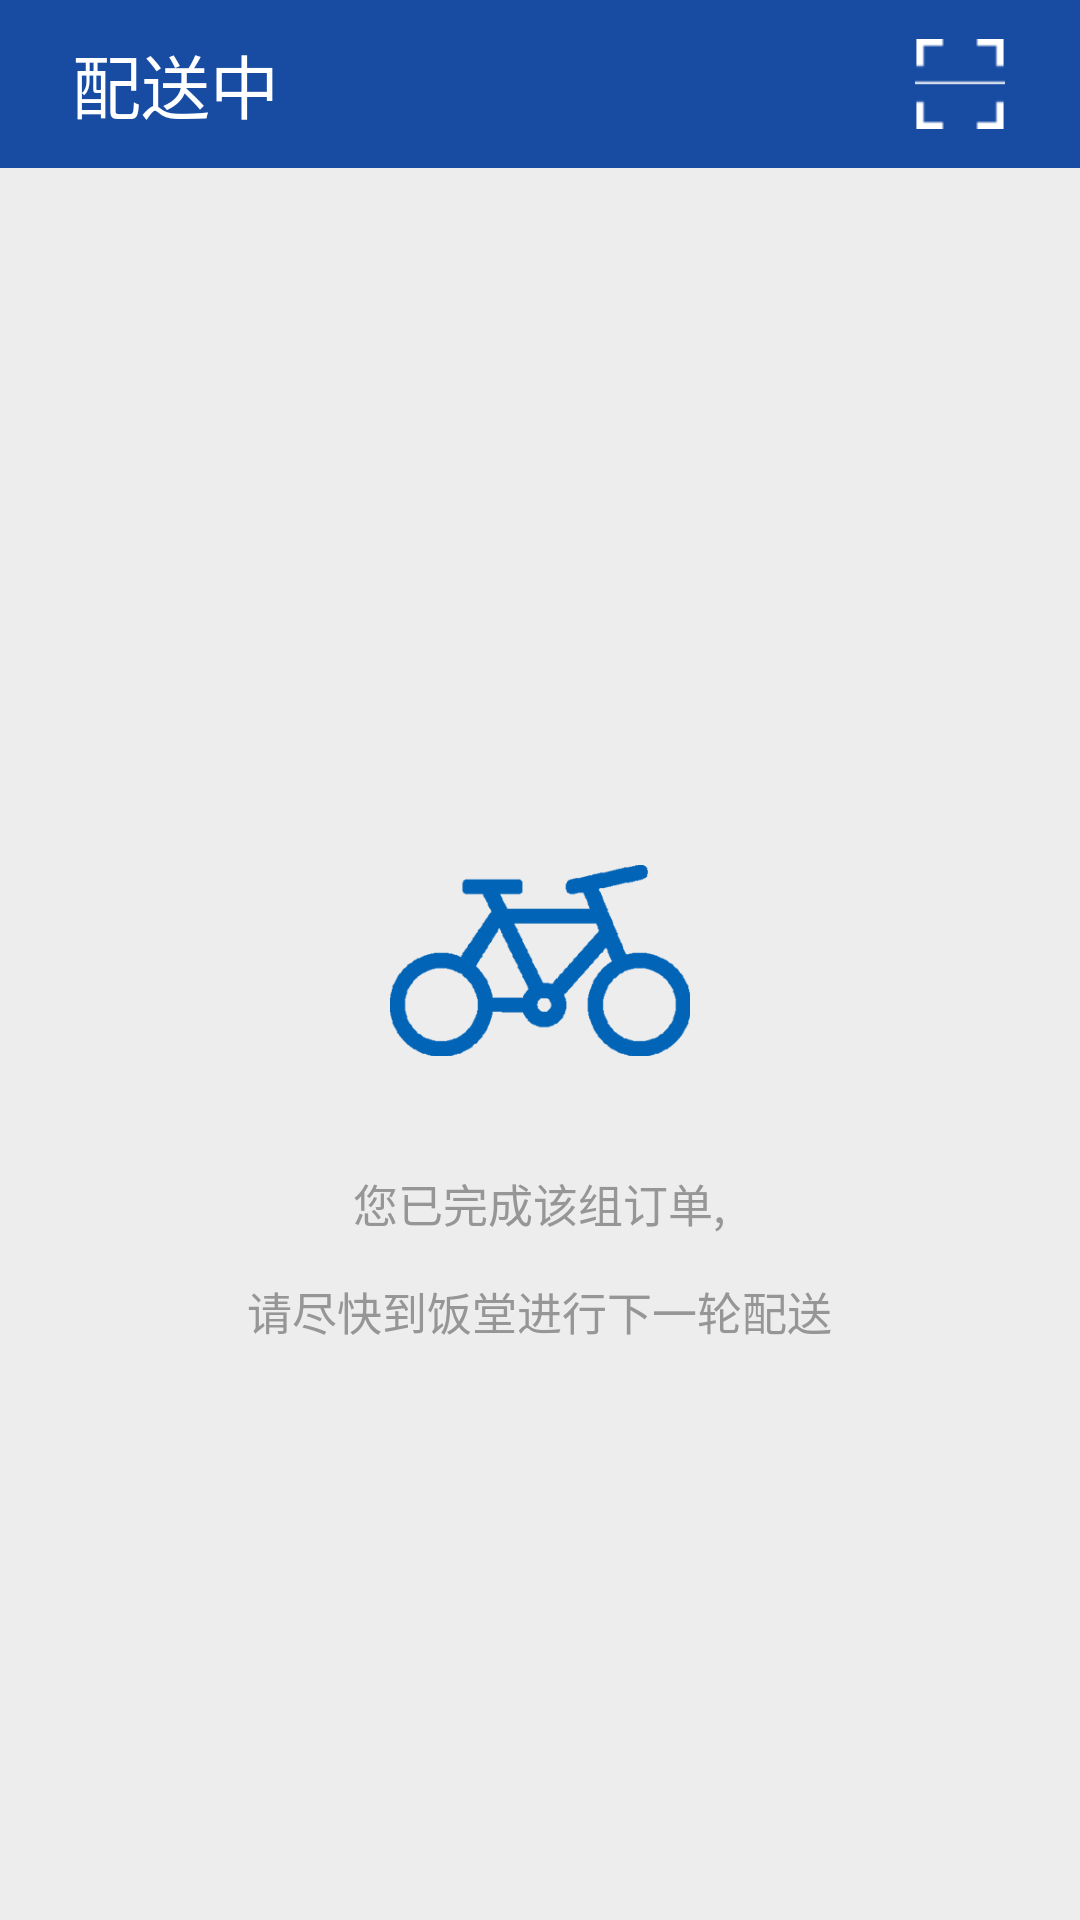

Point at icon controls on the screen. Image size 1080×1920, points as point (x, y).
bike: point (540, 960)
saoma: point (960, 84)
